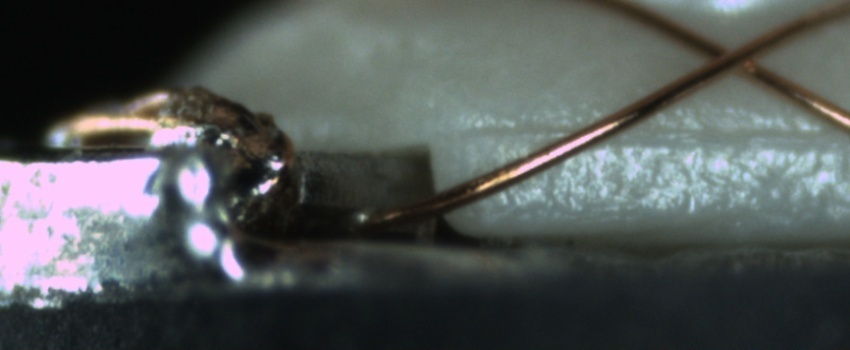CL: (684, 24, 783, 86)
DL: (460, 101, 849, 162)
TE: (43, 87, 202, 142)
